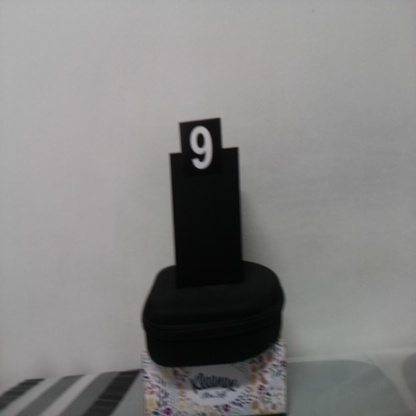id_9: (179, 122, 223, 188)
